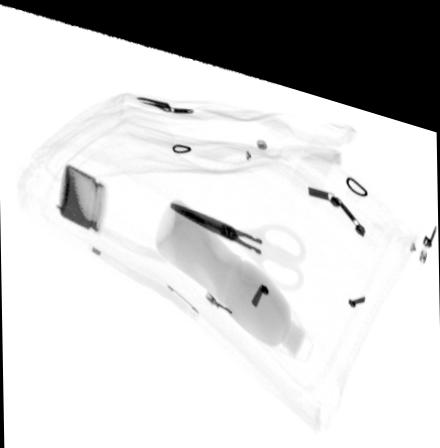Scissors: (170, 192, 309, 276)
